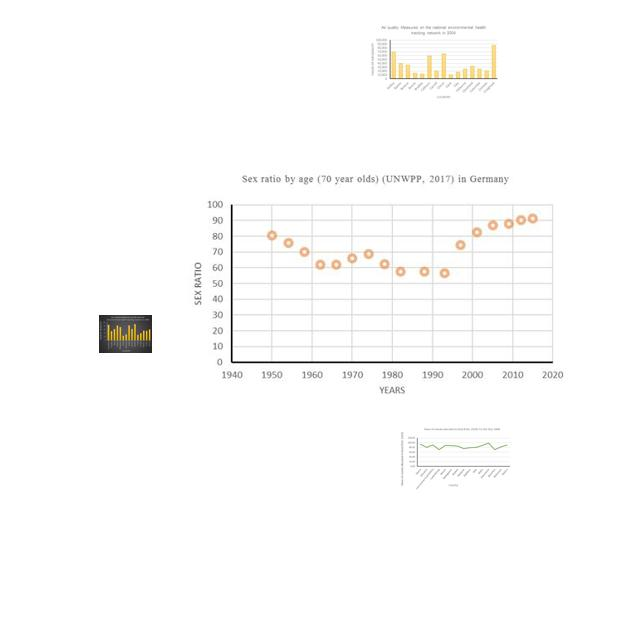Graph: (182, 169, 568, 399), (367, 23, 500, 101), (398, 424, 512, 491), (99, 315, 152, 353)
